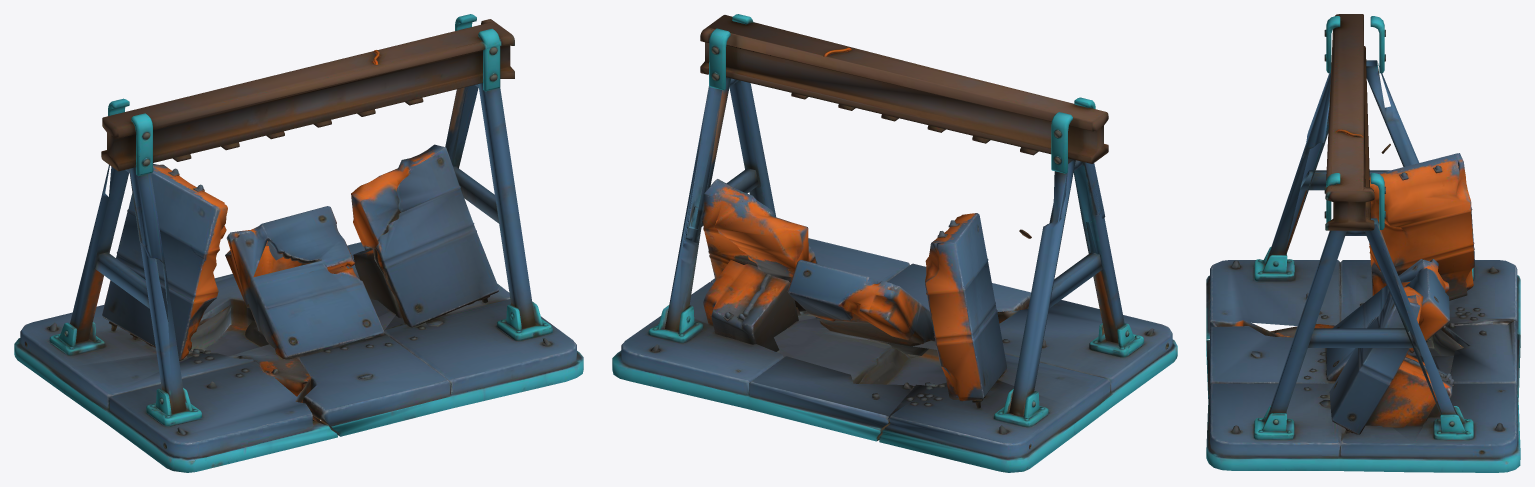
Rendered from selected.fbx.
3 renders of one model, left to right at view 1: azimuth 30°, elevation 25°; view 2: azimuth 150°, elevation 25°; view 3: azimuth 270°, elevation 25°, orthographic. The views are drawn at different scales.
Visible parts, largest first — view 1: tripo_node_5e4ffcda-b874-46e6-835b-f2f73d504c2d; view 2: tripo_node_5e4ffcda-b874-46e6-835b-f2f73d504c2d; view 3: tripo_node_5e4ffcda-b874-46e6-835b-f2f73d504c2d.
Part boxes in pixels (left/top/right/bottom): tripo_node_5e4ffcda-b874-46e6-835b-f2f73d504c2d: left=14, top=14, right=583, bottom=472; tripo_node_5e4ffcda-b874-46e6-835b-f2f73d504c2d: left=612, top=14, right=1177, bottom=472; tripo_node_5e4ffcda-b874-46e6-835b-f2f73d504c2d: left=1206, top=14, right=1520, bottom=472.
Bounding box in the file's own units: 0.9995 × 0.7153 × 0.6958.
1 material, 1 textured.
